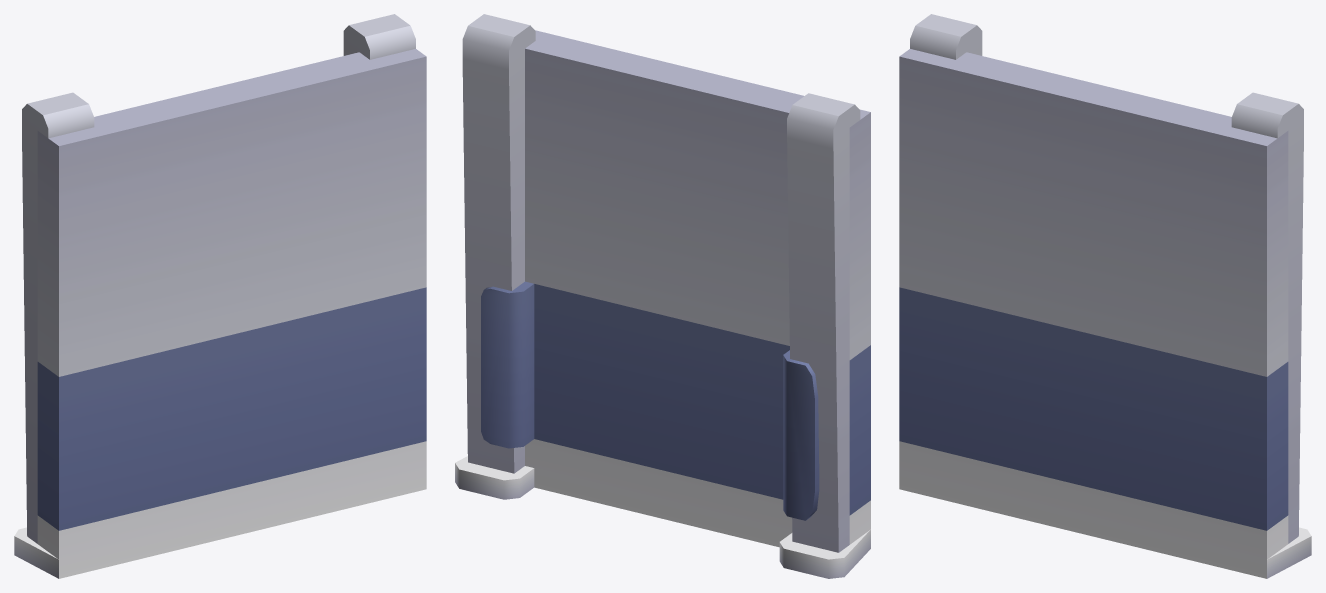
File: corridor-ceiling.glb
3 renders of one model, left to right at view 1: azimuth 30°, elevation 25°; view 2: azimuth 150°, elevation 25°; view 3: azimuth 330°, elevation 25°, orthographic.
Visible parts, largest first — view 1: template-wall-top; view 2: template-wall-top; view 3: template-wall-top.
Part boxes in pixels (x1,y1,x2,y2): template-wall-top: (14, 14, 426, 578); template-wall-top: (455, 14, 870, 578); template-wall-top: (899, 14, 1311, 578).
Bounding box in the file's own units: 4.2 × 4.7 × 0.7751.
1 material, 1 textured.
